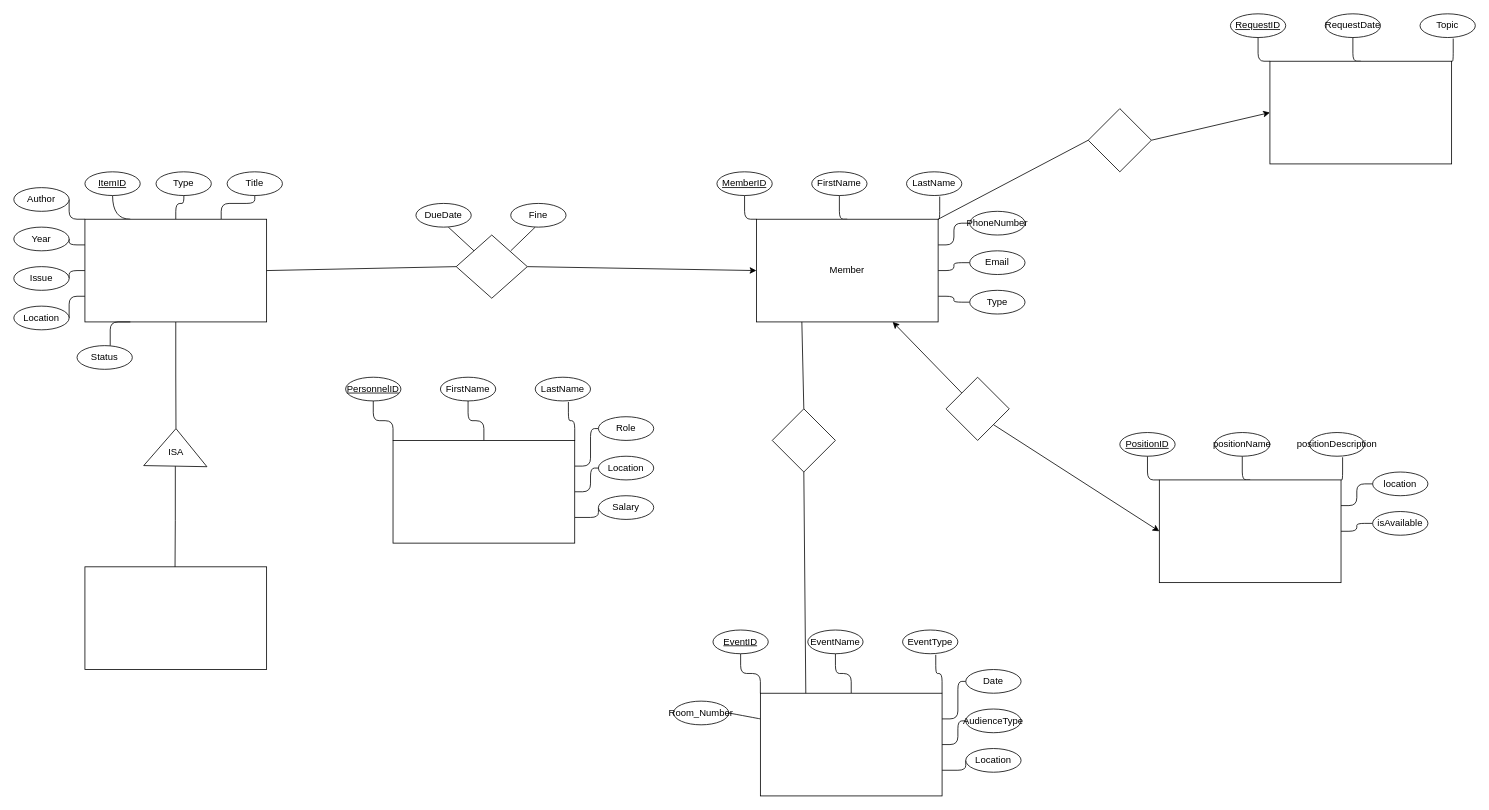
This 1489x810 diagram has some shape labels left out. The box of each missing label's shape, as (x1, y1, x2, y2) in pixels:
Borrows: (455, 234, 527, 298)
Event: (760, 692, 942, 796)
FutureItem: (84, 566, 267, 670)
HelpRequest: (1269, 60, 1452, 164)
Library Item: (84, 218, 267, 322)
Personnel: (392, 440, 575, 543)
Register: (771, 408, 835, 472)
Request: (1087, 108, 1151, 172)
Volunteer: (945, 376, 1009, 440)
VolunteeringPositions: (1159, 479, 1341, 583)
